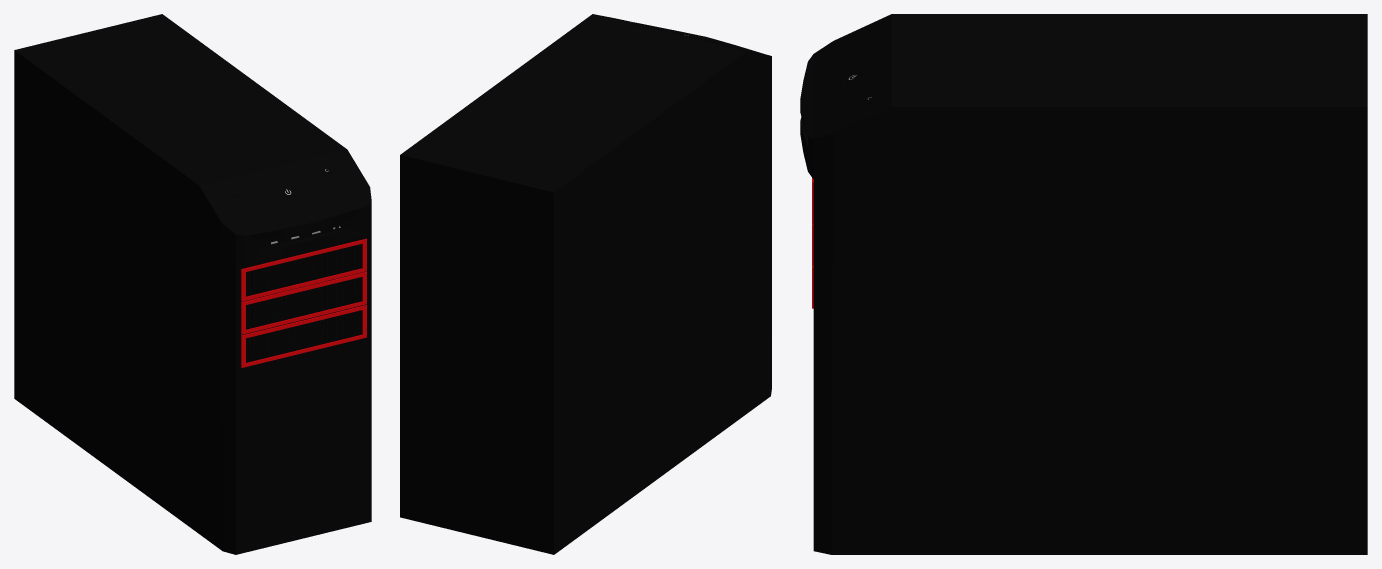
File: system_unit.glb
3 views of the same model, side by side, from view 1: azimuth 30°, elevation 25°; view 2: azimuth 150°, elevation 25°; view 3: azimuth 270°, elevation 25° (orthographic). The views are drawn at different scales.
Visible parts, largest first — view 1: Object_8, Object_5, Object_2, Object_6, Object_7; view 2: Object_8; view 3: Object_8.
Part boxes in pixels (x1,y1,x2,y2): Object_8: [14, 14, 371, 554]; Object_5: [246, 244, 362, 328]; Object_2: [241, 238, 366, 367]; Object_6: [246, 281, 343, 345]; Object_7: [246, 310, 362, 362]; Object_8: [400, 14, 771, 554]; Object_8: [800, 14, 1367, 554].
Size of the model in its own units: 0.7934 by 1.78 by 2.05.
